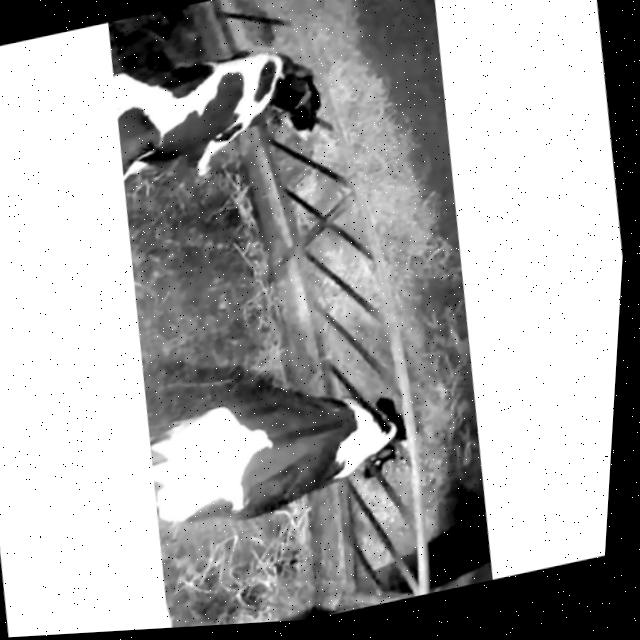eat: (178, 25, 374, 179), (273, 365, 452, 503)
